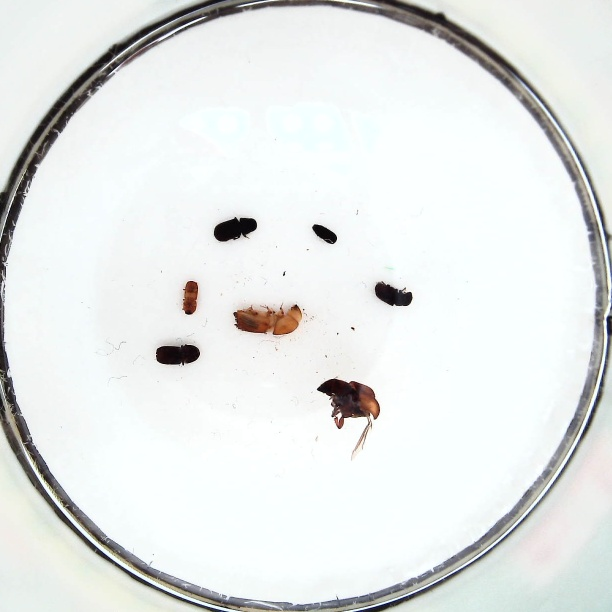acuminatus: (182, 278, 201, 314)
armandi: (213, 216, 259, 243), (373, 279, 415, 307)
boerner: (233, 303, 303, 337)
coleoptera: (311, 221, 338, 246)
leconte: (317, 378, 379, 426)
linnaeus: (154, 341, 201, 366)
